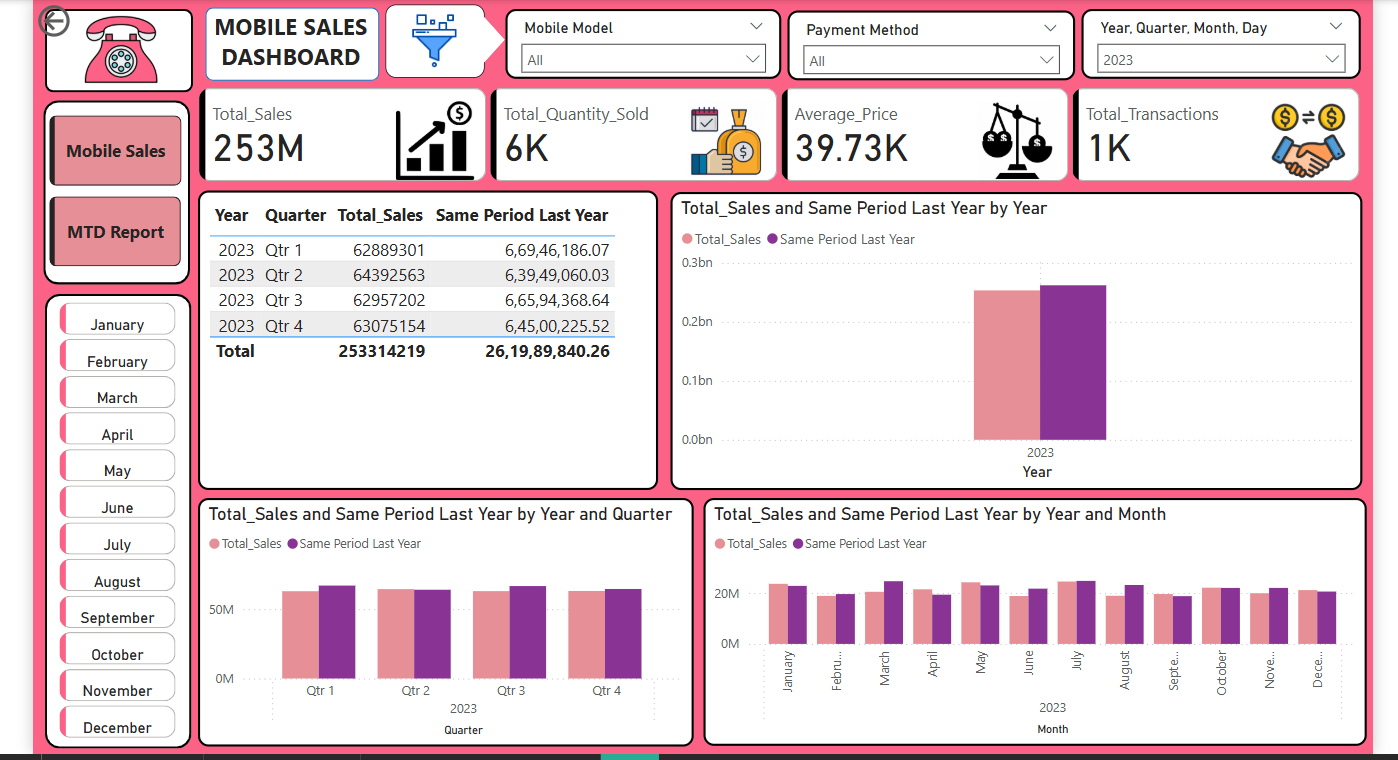

The page's visual inventory and layout, read from the dashboard file:
{"tool":"powerbi","page":{"name":"Same Period Last Year","canvas":[1280,720],"ordinal":2},"visuals":[{"type":"shape","box":[11.4,8.1,141.5,79.7],"z":0},{"type":"image","box":[21.1,6.5,125.2,79.7],"z":1000},{"type":"shape","box":[11.4,281.4,139.9,434.3],"z":2000},{"type":"shape","box":[9.8,96,139.9,175.7],"z":3000},{"type":"cardVisual","fields":{"Data":["Mobile_Sales_Data.Total_Sales","Mobile_Sales_Data.Total_Quantity_Sold","Mobile_Sales_Data.Average_Price","Mobile_Sales_Data.Total_Transactions"]},"box":[152.9,78.1,1120.7,99.2],"z":4000},{"type":"slicer","fields":{"Values":["Mobile_Sales_Data.Mobile Model"]},"box":[450.6,8.1,263.5,66.7],"z":5000},{"type":"slicer","fields":{"Values":["Mobile_Sales_Data.Payment Method"]},"box":[720.6,9.8,274.9,66.7],"z":6000},{"type":"slicer","fields":{"Values":["Custom_Calender.Date.Variation.Date Hierarchy.Year","Custom_Calender.Date.Variation.Date Hierarchy.Quarter","Custom_Calender.Date.Variation.Date Hierarchy.Month","Custom_Calender.Date.Variation.Date Hierarchy.Day"]},"box":[1002,8.1,266.8,66.7],"z":7000},{"type":"image","box":[336.7,4.9,94.3,69.9],"z":8000},{"type":"shape","box":[405,13,45.5,50.4],"z":9000},{"type":"shape","box":[164.3,6.5,165.9,69.9],"z":10000},{"type":"textbox","box":[157.8,4.9,177.3,105.7],"z":11000},{"type":"actionButton","box":[0,0,100,40],"z":12000},{"type":"advancedSlicerVisual","fields":{"Values":["Custom_Calender.Date.Variation.Date Hierarchy.Month"]},"box":[19.5,283,122,426.2],"z":13000},{"type":"tableEx","fields":{"Values":["Custom_Calender.Date.Variation.Date Hierarchy.Year","Custom_Calender.Date.Variation.Date Hierarchy.Quarter","Mobile_Sales_Data.Total_Sales","Mobile_Sales_Data.Same Period Last Year"]},"box":[157.8,182.2,439.2,286.3],"z":14000},{"type":"clusteredColumnChart","fields":{"Category":["Custom_Calender.Date.Variation.Date Hierarchy.Year","Custom_Calender.Date.Variation.Date Hierarchy.Quarter"],"Y":["Mobile_Sales_Data.Total_Sales","Mobile_Sales_Data.Same Period Last Year"]},"box":[608.3,183.8,660.4,284.6],"z":15000},{"type":"clusteredColumnChart","fields":{"Y":["Mobile_Sales_Data.Total_Sales","Mobile_Sales_Data.Same Period Last Year"],"Category":["Custom_Calender.Date.Variation.Date Hierarchy.Year","Custom_Calender.Date.Variation.Date Hierarchy.Month","Custom_Calender.Date.Variation.Date Hierarchy.Day"]},"box":[640.3,475.6,633.1,236.3],"z":16000},{"type":"clusteredColumnChart","fields":{"Y":["Mobile_Sales_Data.Total_Sales","Mobile_Sales_Data.Same Period Last Year"],"Category":["Custom_Calender.Date.Variation.Date Hierarchy.Year","Custom_Calender.Date.Variation.Date Hierarchy.Quarter","Custom_Calender.Date.Variation.Date Hierarchy.Day"]},"box":[157.8,475,473.3,237.5],"z":17000},{"type":"pageNavigator","box":[16.3,110.6,126.9,144.8],"z":18000}]}

Visuals, with their boxes on the page's 1280x720 design canvas (x1, y1, x2, y2). These are canvas units, not pixel positions in the 1398x760 screenshot, which may show the page scaled, cropped or inside an application window:
shape: <bbox>11, 8, 153, 88</bbox>
image: <bbox>21, 6, 146, 86</bbox>
shape: <bbox>11, 281, 151, 716</bbox>
shape: <bbox>10, 96, 150, 272</bbox>
cardVisual - Mobile_Sales_Data.Total_Sales x Mobile_Sales_Data.Total_Quantity_Sold: <bbox>153, 78, 1274, 177</bbox>
slicer - Mobile_Sales_Data.Mobile Model: <bbox>451, 8, 714, 75</bbox>
slicer - Mobile_Sales_Data.Payment Method: <bbox>721, 10, 996, 76</bbox>
slicer - Custom_Calender.Date.Variation.Date Hierarchy.Year x Custom_Calender.Date.Variation.Date Hierarchy.Quarter: <bbox>1002, 8, 1269, 75</bbox>
image: <bbox>337, 5, 431, 75</bbox>
shape: <bbox>405, 13, 450, 63</bbox>
shape: <bbox>164, 6, 330, 76</bbox>
textbox: <bbox>158, 5, 335, 111</bbox>
actionButton: <bbox>0, 0, 100, 40</bbox>
advancedSlicerVisual - Custom_Calender.Date.Variation.Date Hierarchy.Month: <bbox>20, 283, 142, 709</bbox>
tableEx - Custom_Calender.Date.Variation.Date Hierarchy.Year x Custom_Calender.Date.Variation.Date Hierarchy.Quarter: <bbox>158, 182, 597, 468</bbox>
clusteredColumnChart - Custom_Calender.Date.Variation.Date Hierarchy.Year x Custom_Calender.Date.Variation.Date Hierarchy.Quarter: <bbox>608, 184, 1269, 468</bbox>
clusteredColumnChart - Mobile_Sales_Data.Total_Sales x Mobile_Sales_Data.Same Period Last Year: <bbox>640, 476, 1273, 712</bbox>
clusteredColumnChart - Mobile_Sales_Data.Total_Sales x Mobile_Sales_Data.Same Period Last Year: <bbox>158, 475, 631, 712</bbox>
pageNavigator: <bbox>16, 111, 143, 255</bbox>
